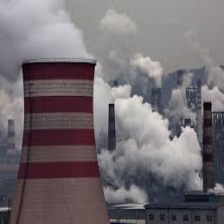smoke: (128, 102, 199, 188), (9, 5, 84, 54), (146, 59, 167, 88), (202, 76, 221, 106)
